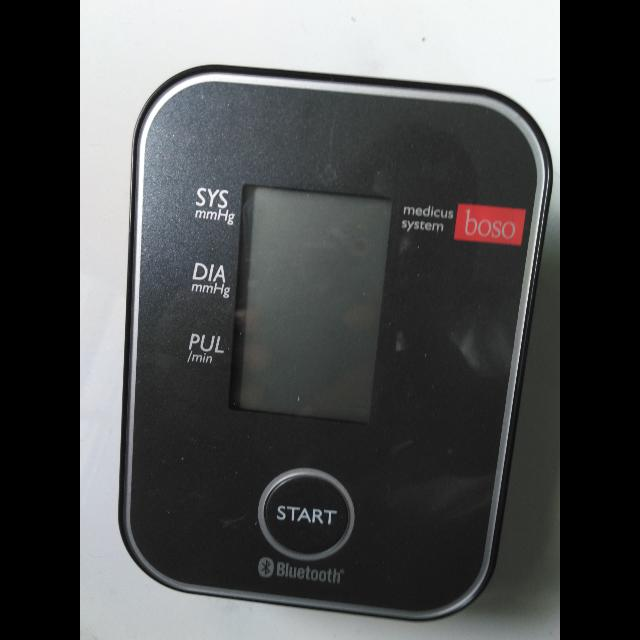Blood-Pressure-Monitor: (118, 51, 552, 636)
